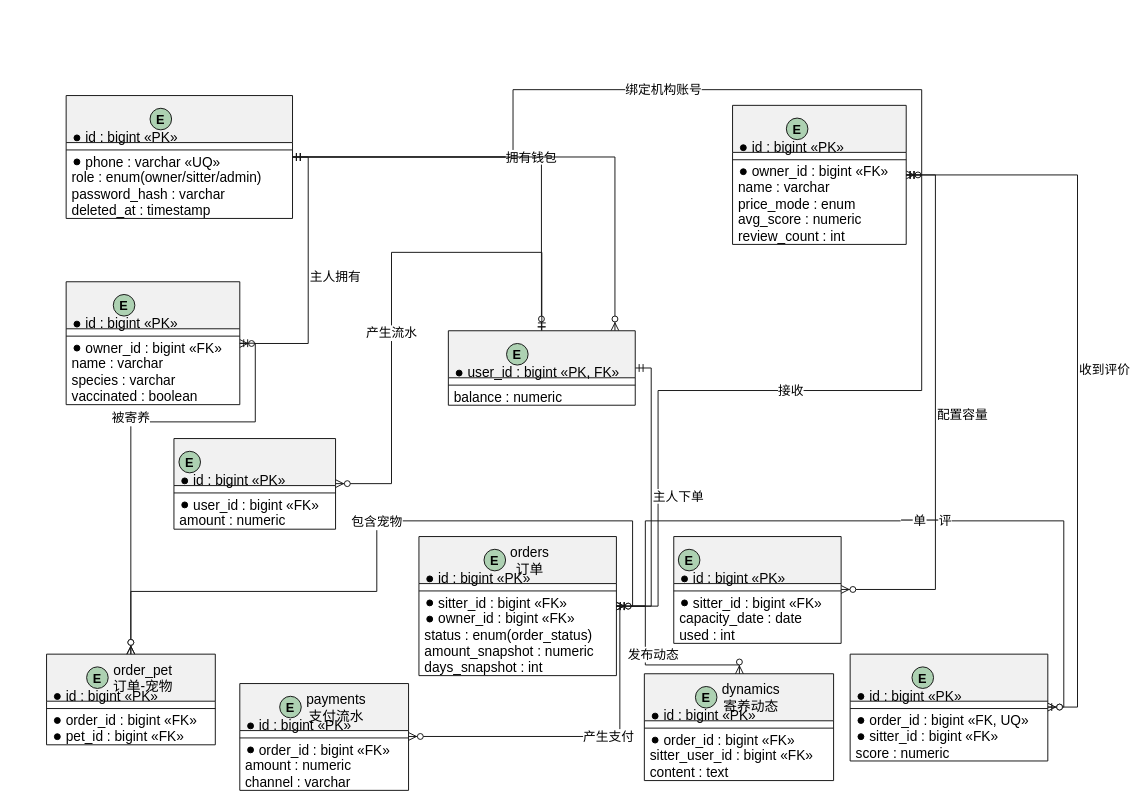
Image size: 1147x808. Some labels were removed from this diagram. The shapes that lost their labels are listed below. From the top down, each one's box as (x1, y1, x2, y2) in pixels, then its label:
(65, 95, 293, 218): users 用户
(732, 104, 906, 244): sitters 机构
(65, 281, 240, 405): pets 宠物档案
(447, 330, 635, 405): wallets 钱包
(173, 438, 336, 529): wallet_transactions 资金流水
(673, 536, 841, 643): sitter_daily_capacity 每日容量
(849, 653, 1048, 761): reviews 评价
